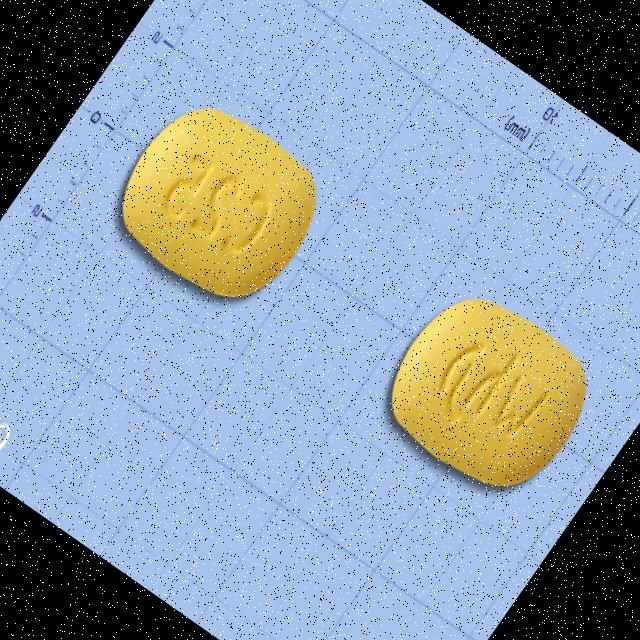Claton: (91, 76, 345, 328), (363, 269, 614, 516)
